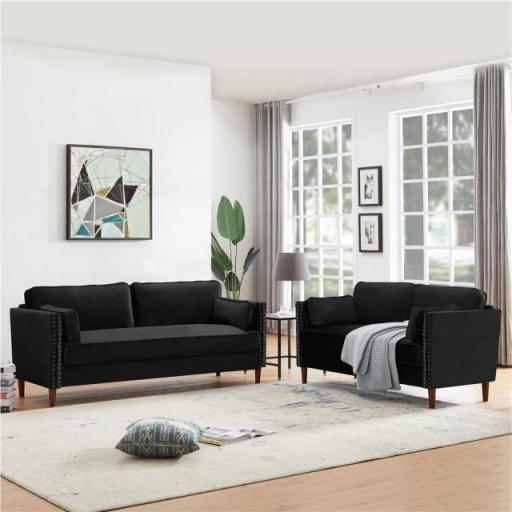sofa: (5, 242, 280, 410), (301, 244, 512, 428)
